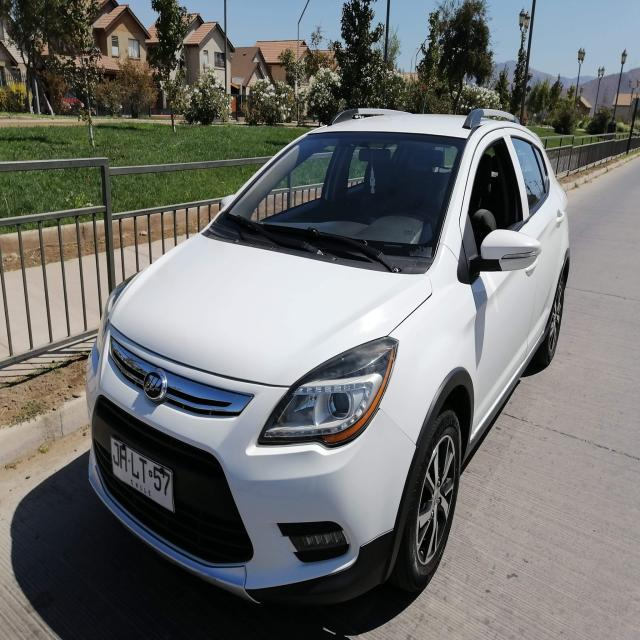patente: (109, 435, 175, 514)
